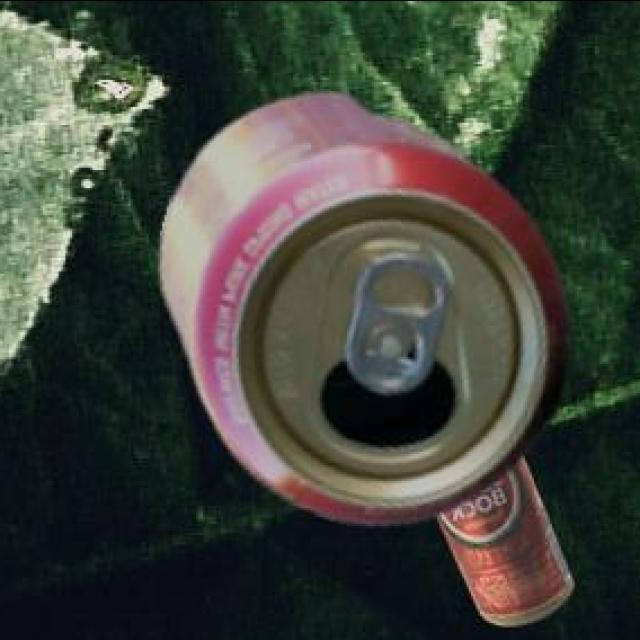logam: (163, 98, 571, 526), (441, 459, 576, 628)
